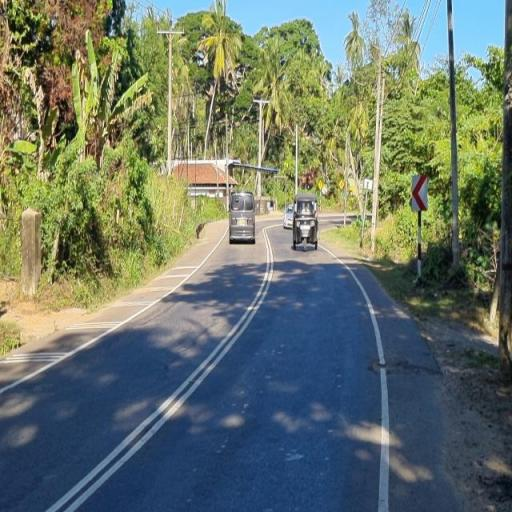double_white_line: (46, 220, 278, 510)
